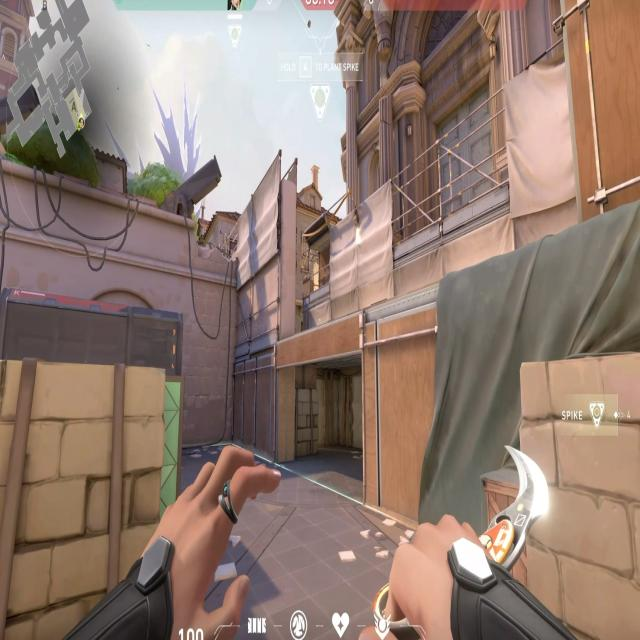A_Heaven_Wall: (220, 138, 312, 330)
A_Hell: (271, 307, 385, 508)
